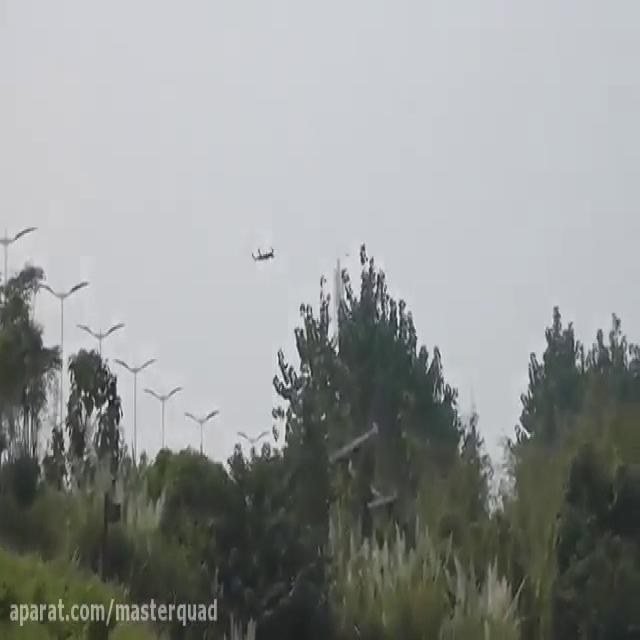drone: (246, 233, 277, 267)
